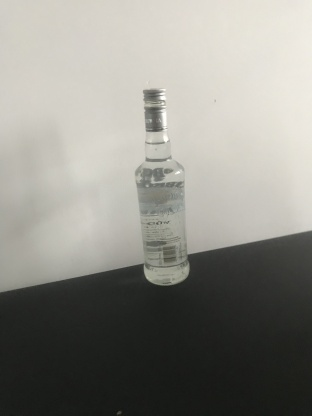nakretka: (141, 86, 168, 131)
